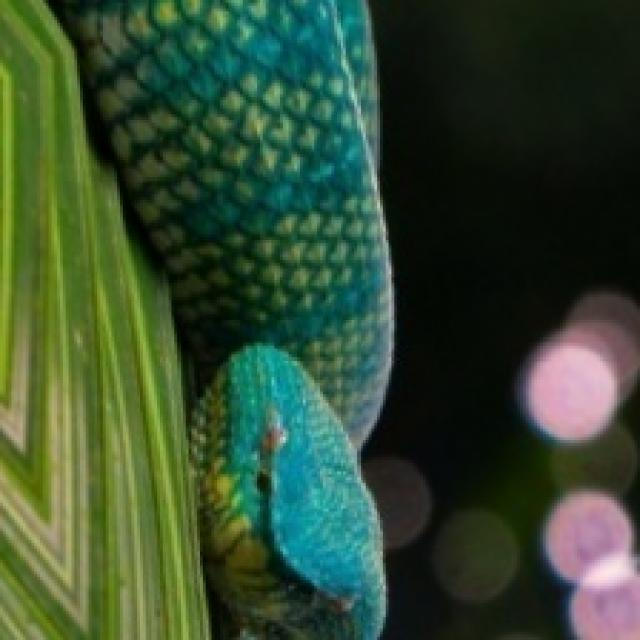north ph temple pitviper: (65, 0, 392, 639)
